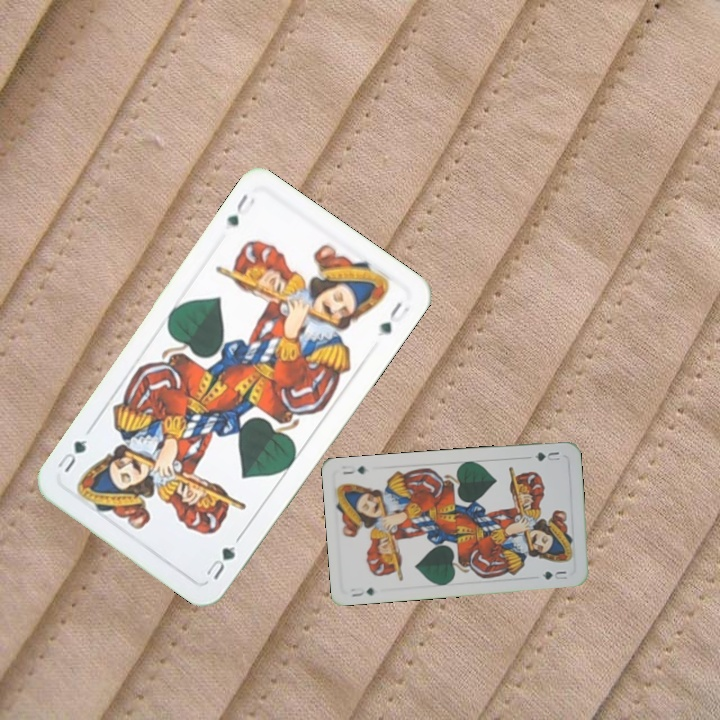GU: (202, 542, 238, 583), (222, 190, 258, 229), (531, 448, 562, 464), (347, 583, 377, 599)
